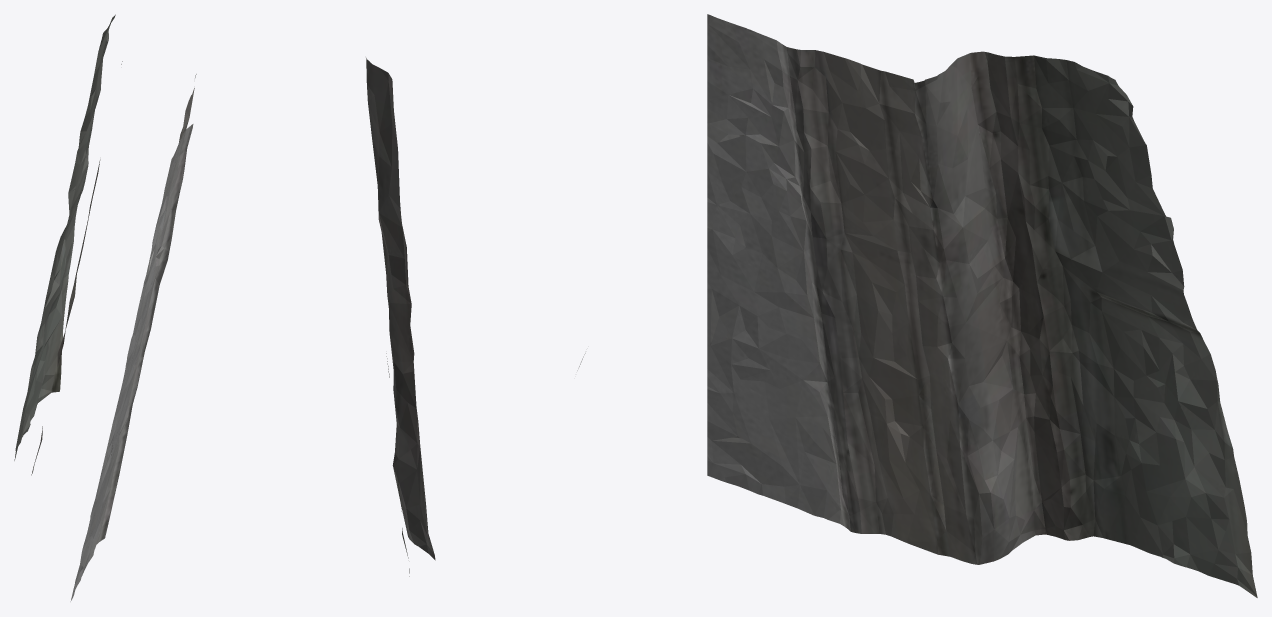
3 renders of one model, left to right at view 1: azimuth 30°, elevation 25°; view 2: azimuth 150°, elevation 25°; view 3: azimuth 270°, elevation 25°, orthographic. The views are drawn at different scales.
Bounding box in the file's own units: 0.4369 × 0.8374 × 0.7982.
Materials: 3 (3 with a texture image).
